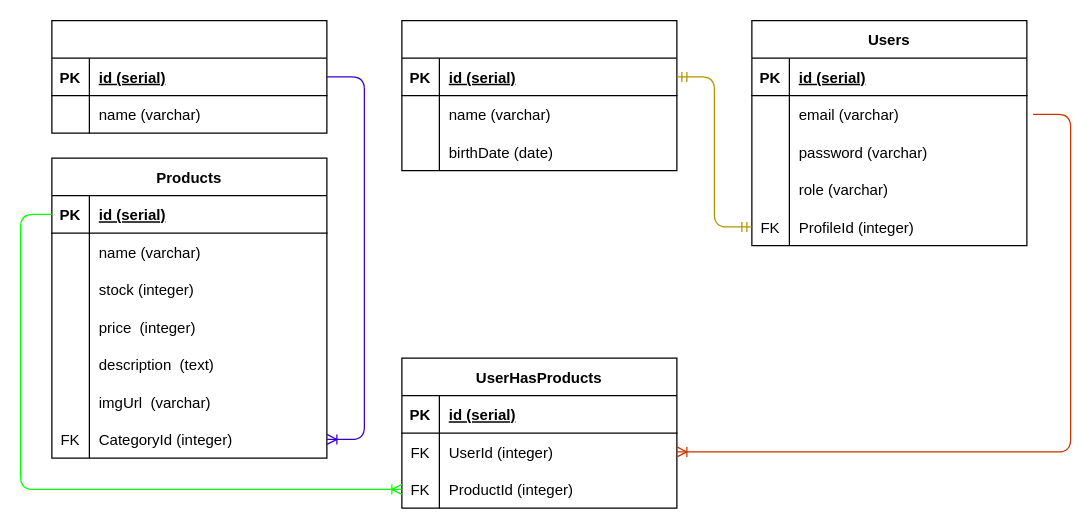
Some shapes in this 1091 by 529 pixel diagram are drawn without their labels. Each missing label, with the box of its shape:
Categories: (51, 19, 327, 133)
Profiles: (401, 19, 677, 171)
